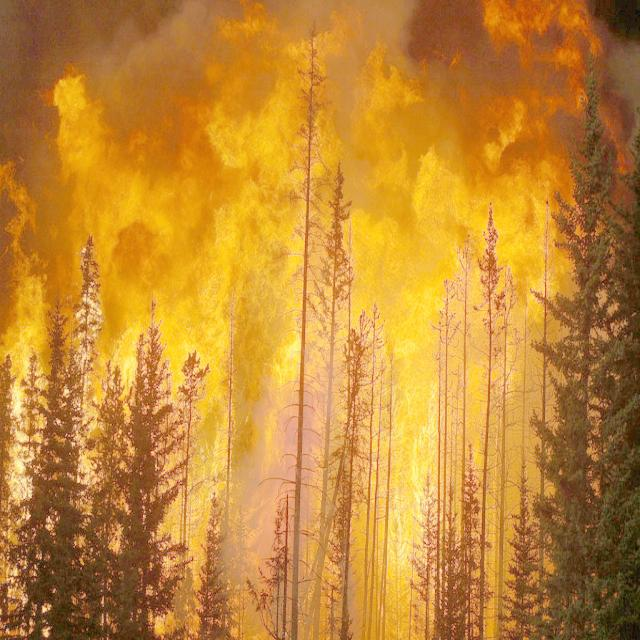api: (183, 99, 566, 640), (58, 83, 177, 290)
